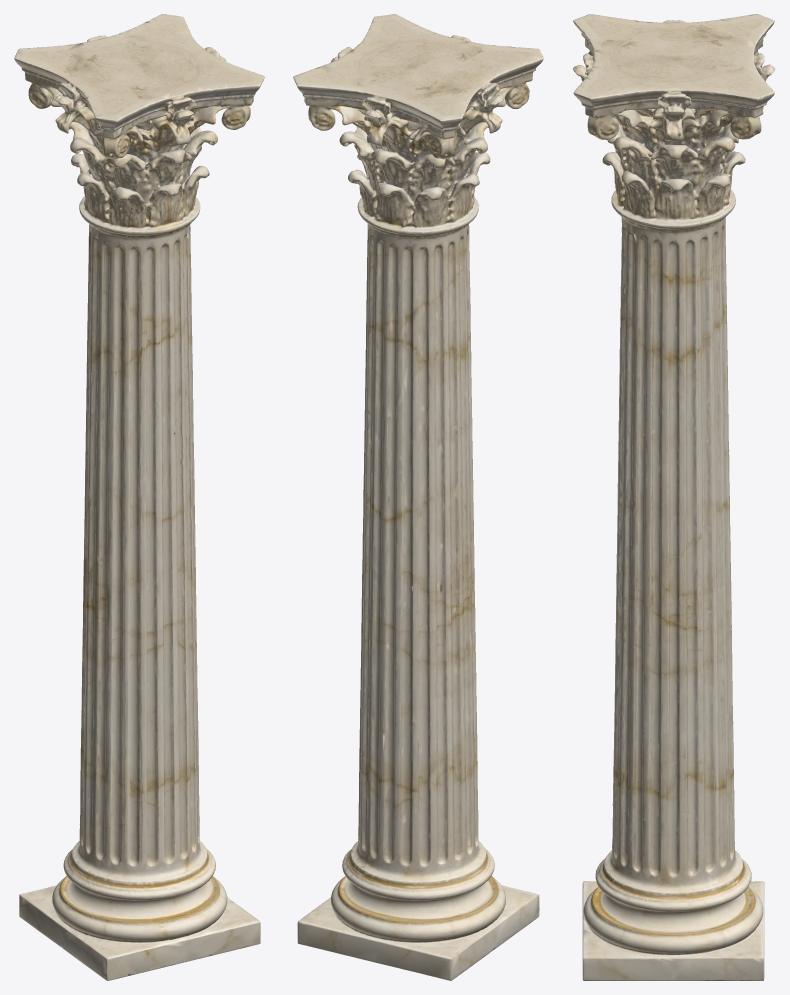
File: column.glb
3 renders of one model, left to right at view 1: azimuth 30°, elevation 25°; view 2: azimuth 150°, elevation 25°; view 3: azimuth 270°, elevation 25°, orthographic. The views are drawn at different scales.
Bounding box in the file's own units: 12864 × 62245 × 12925.
1 material, 1 textured.
